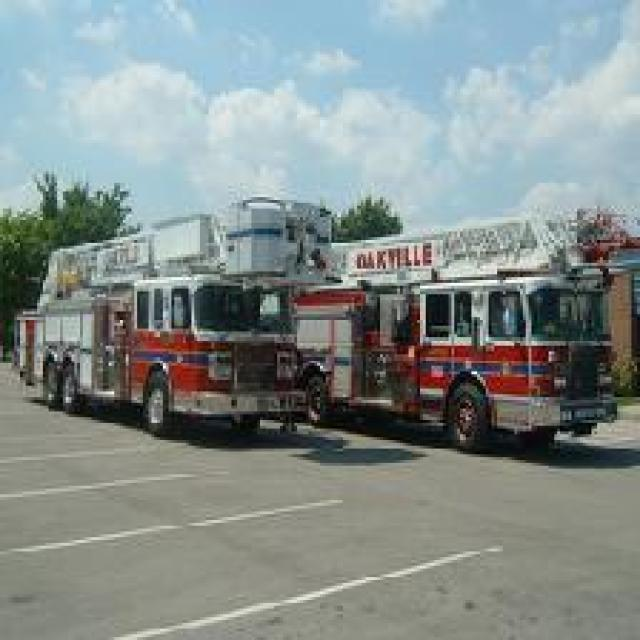emergency: (13, 197, 316, 455), (302, 210, 626, 446)
